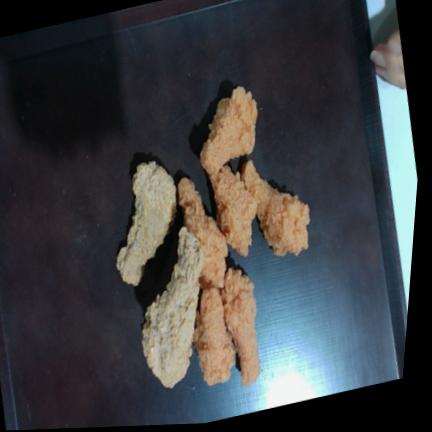chicken: (142, 227, 204, 386), (117, 161, 177, 286), (241, 160, 310, 255), (178, 177, 228, 288), (200, 86, 257, 176), (222, 268, 260, 386), (210, 165, 257, 255), (194, 287, 235, 385)
